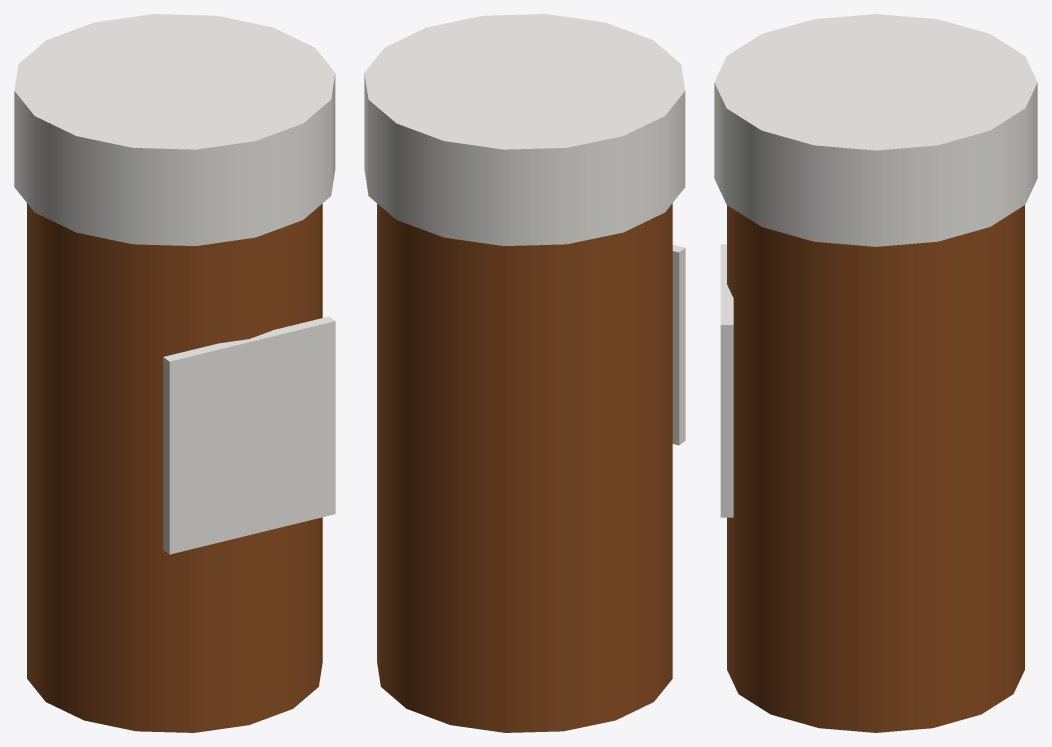
The model's file is Sample_Bottle.fbx.
The picture shows the model from 3 angles, left to right: view 1: azimuth 30°, elevation 25°; view 2: azimuth 150°, elevation 25°; view 3: azimuth 270°, elevation 25°; orthographic projection.
Visible parts, largest first — view 1: Sample_Bottle_Amber, Sample_Bottle_White; view 2: Sample_Bottle_Amber, Sample_Bottle_White; view 3: Sample_Bottle_Amber, Sample_Bottle_White.
Boxes of the visible parts, left/top/right/bottom form: Sample_Bottle_Amber: left=27, top=203, right=322, bottom=732; Sample_Bottle_White: left=14, top=14, right=335, bottom=554; Sample_Bottle_Amber: left=377, top=203, right=672, bottom=732; Sample_Bottle_White: left=364, top=14, right=685, bottom=445; Sample_Bottle_Amber: left=727, top=205, right=1024, bottom=732; Sample_Bottle_White: left=714, top=14, right=1037, bottom=517.
Bounding box in the file's own units: 7.6 × 15.25 × 7.6.
